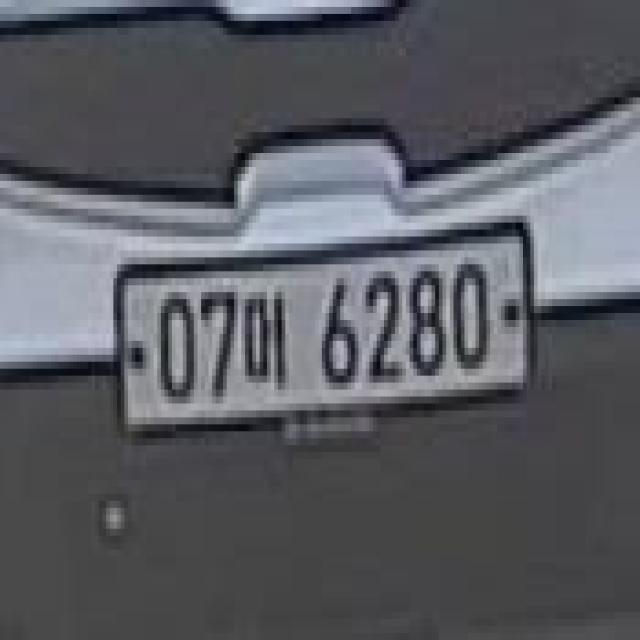illegal_plate: (106, 223, 540, 454)
